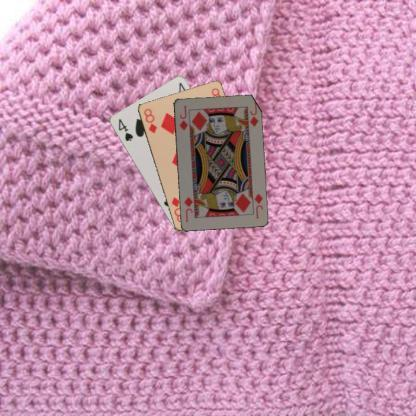4s: (116, 116, 134, 142)
8d: (141, 106, 158, 134)
Jd: (251, 191, 264, 220), (177, 103, 189, 132)
